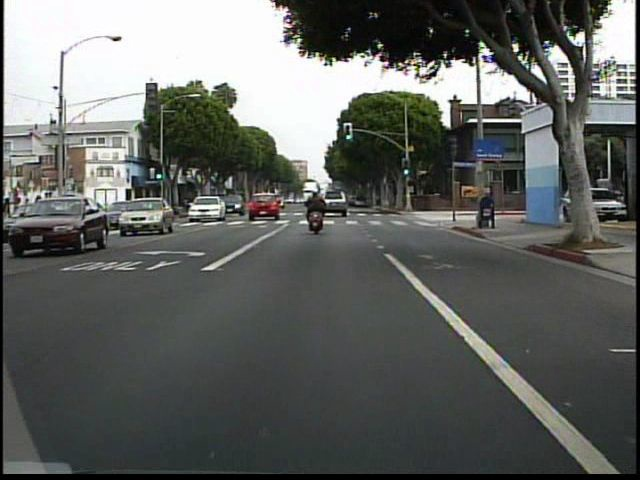person: (303, 185, 332, 240)
